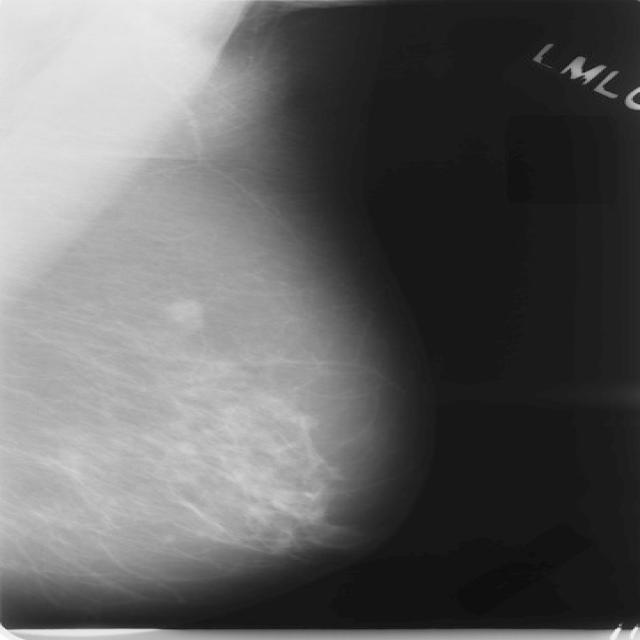tumour: (165, 299, 202, 330)
